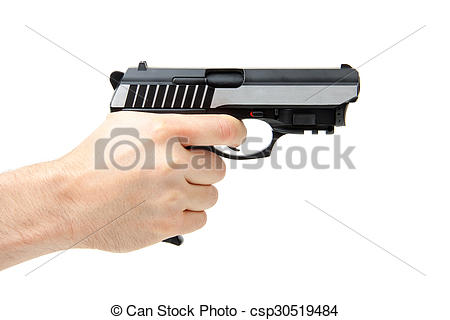pistol: (74, 37, 381, 253)
